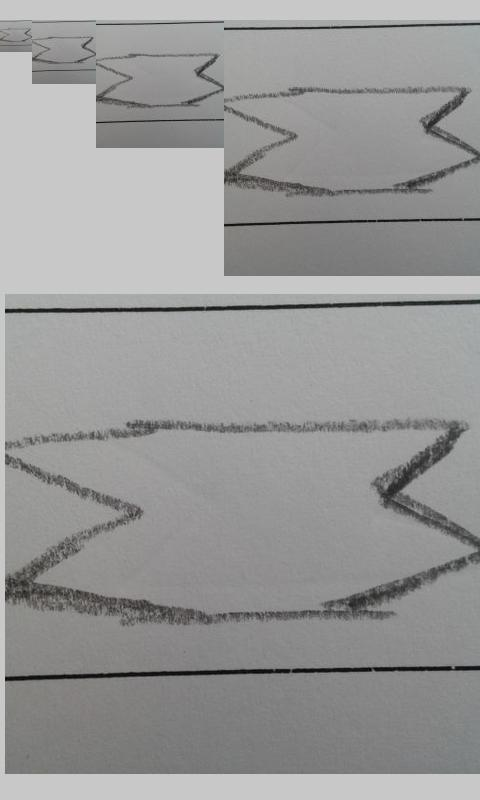edit_text: (6, 417, 479, 628), (224, 85, 480, 196), (95, 51, 223, 111), (32, 36, 95, 64), (1, 28, 31, 43)
